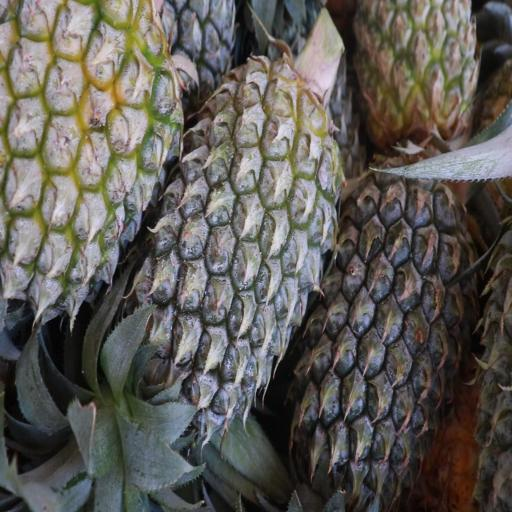------------------------------: (0, 2, 179, 302), (355, 0, 478, 137)
